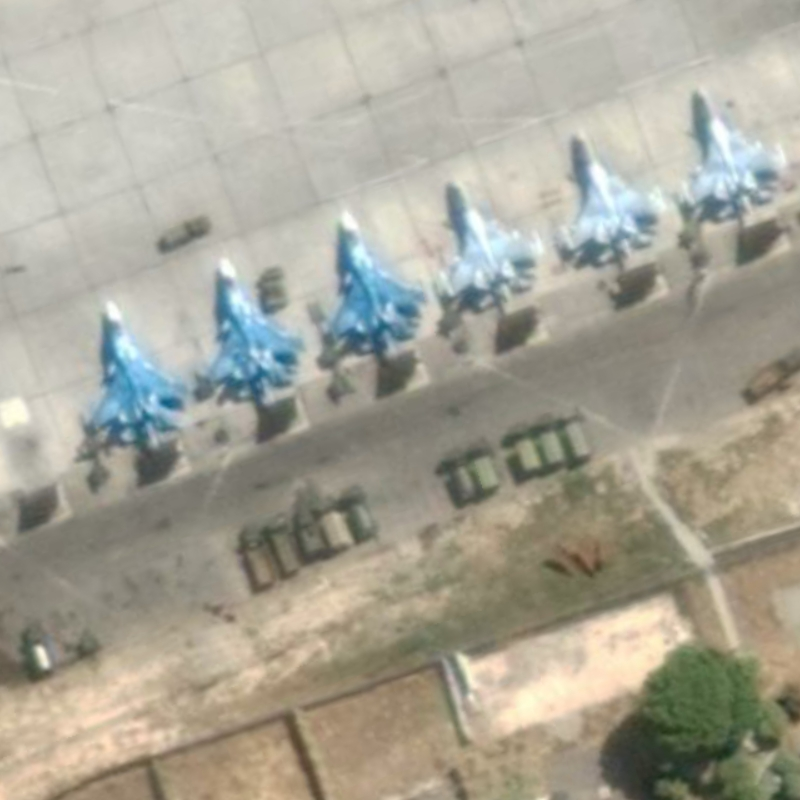A1: (555, 123, 670, 270), (675, 83, 792, 223), (435, 174, 551, 312)
A19: (85, 294, 196, 452), (197, 251, 308, 406), (323, 207, 432, 360)
